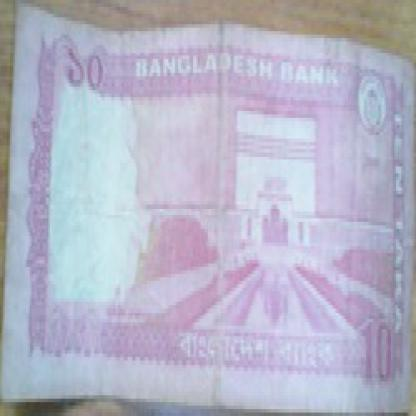Ten Taka: (354, 305, 404, 395), (65, 35, 106, 100)
